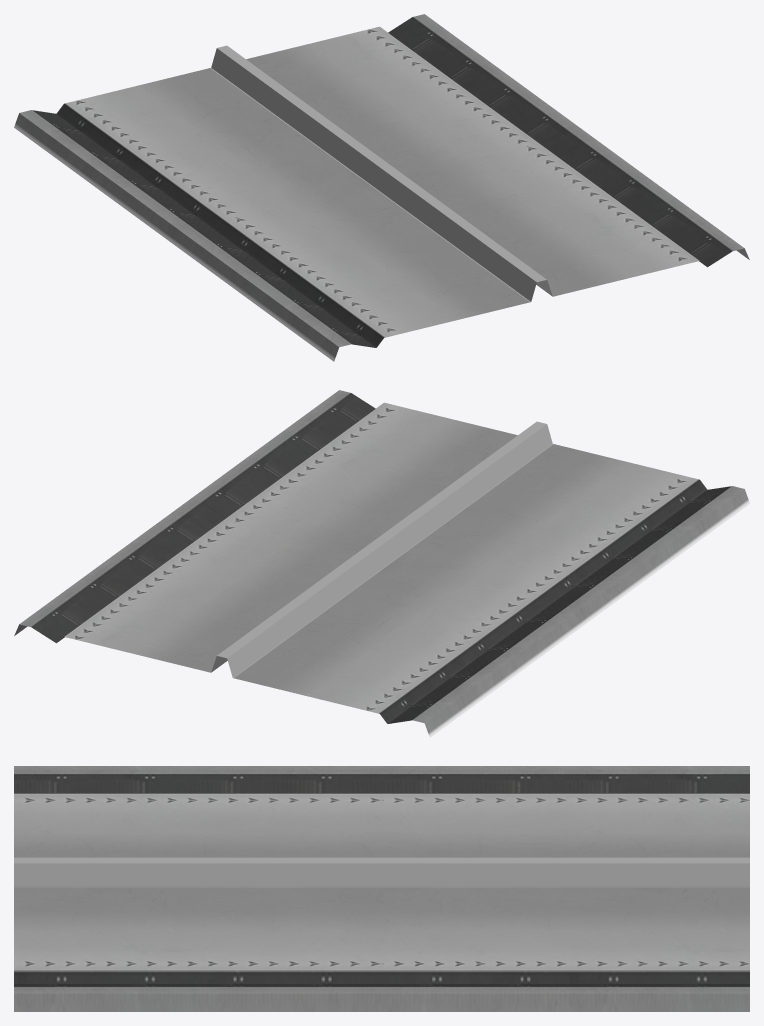
File: road_I.glb
The picture shows the model from 3 angles, top to bottom: view 1: azimuth 30°, elevation 25°; view 2: azimuth 150°, elevation 25°; view 3: azimuth 270°, elevation 25°; orthographic projection. The views are drawn at different scales.
Parts seen in each view (by area): view 1: Plane; view 2: Plane; view 3: Plane.
Part boxes in pixels (x1,y1,x2,y2): Plane: (14, 14, 749, 361); Plane: (14, 390, 749, 737); Plane: (14, 766, 749, 1011).
Size of the model in its own units: 15 by 1.04 by 20.
1 material, 1 textured.
